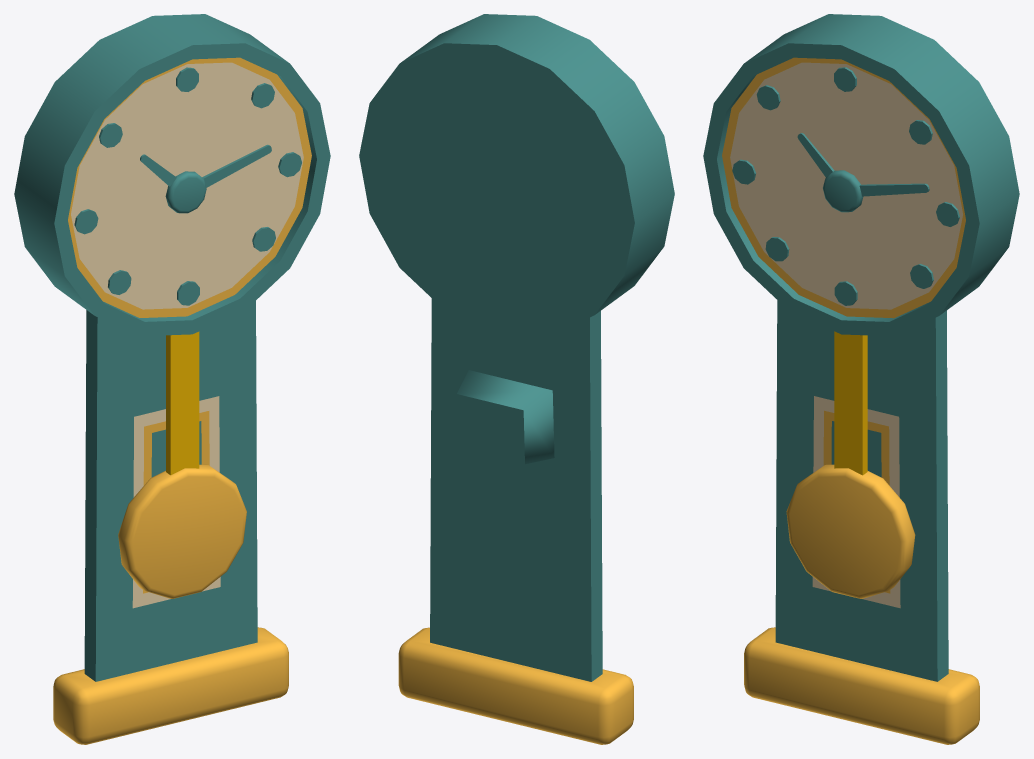
Rendered from Clock_1C.fbx.
3 views of the same model, side by side, from view 1: azimuth 30°, elevation 25°; view 2: azimuth 150°, elevation 25°; view 3: azimuth 330°, elevation 25° (orthographic).
Parts seen in each view (by area): view 1: Clock_1C, Clock_1C Attachment_2; view 2: Clock_1C; view 3: Clock_1C, Clock_1C Attachment_2.
Boxes of the visible parts, x1=… form: Clock_1C: x1=14, y1=14, x2=330, y2=744; Clock_1C Attachment_2: x1=202, y1=144, x2=271, y2=187; Clock_1C: x1=359, y1=14, x2=674, y2=744; Clock_1C: x1=703, y1=14, x2=1019, y2=744; Clock_1C Attachment_2: x1=859, y1=183, x2=929, y2=196.
Size of the model in its own units: 0.285 by 0.6742 by 0.0845.
